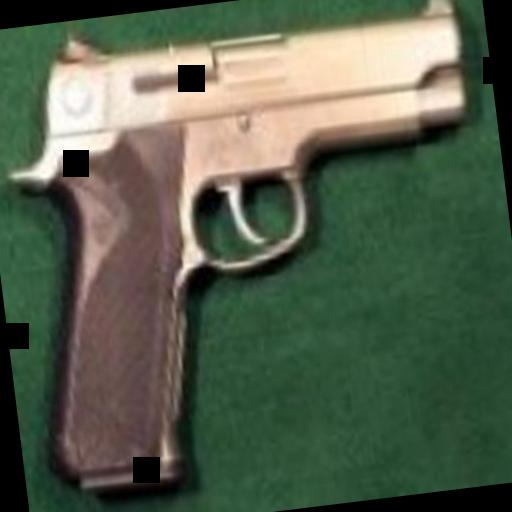Handgun: (0, 0, 508, 492)
